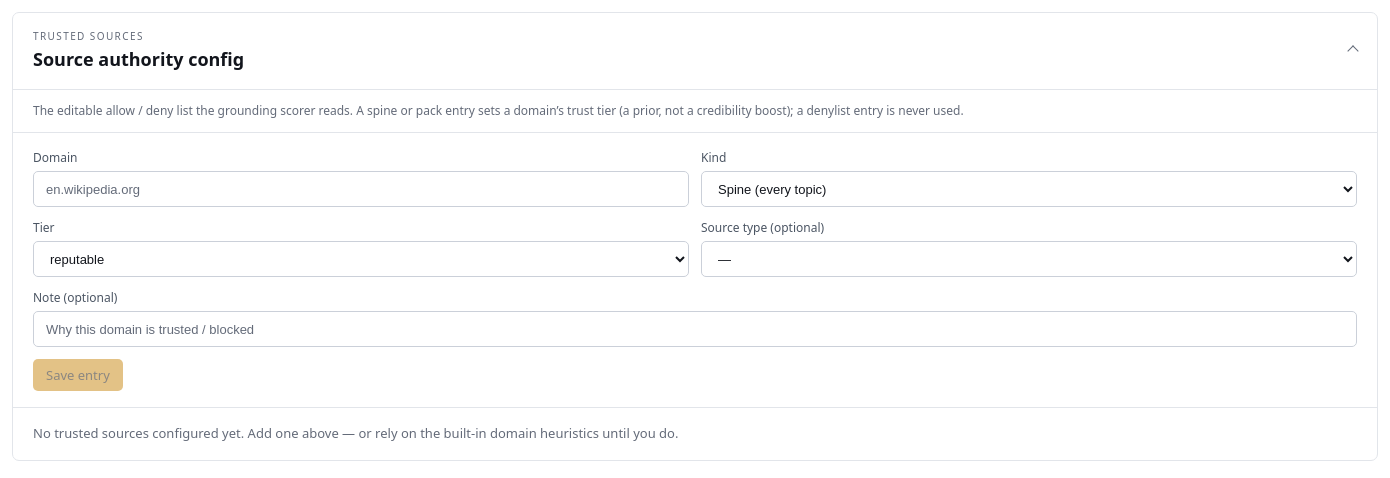
Test: TrustedSourcesPanel › surfaces a validation error from the API without crashing
Expected: the text "No trusted sources configured" is shown, [33,424,678,442]
Type "example.com" into the field labelled "Domain".
click(361, 189); type("example.com")  # box [33,171,689,207]
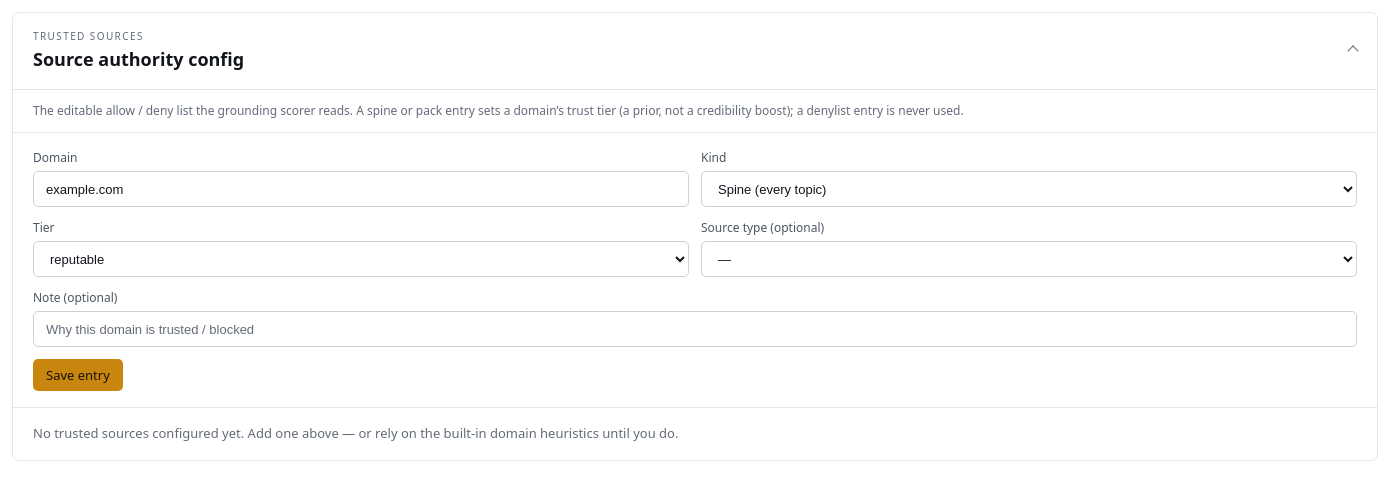
Click the button "Save entry".
click(78, 375)  # box [33,359,123,391]
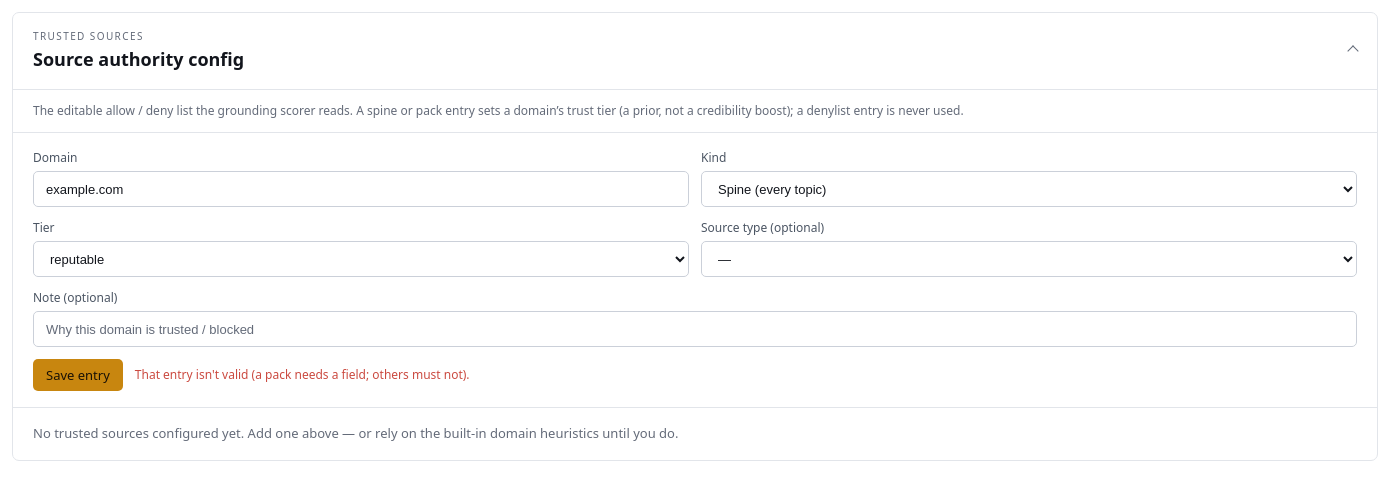
Expected: the message shows "isn't valid", [135,366,470,383]
